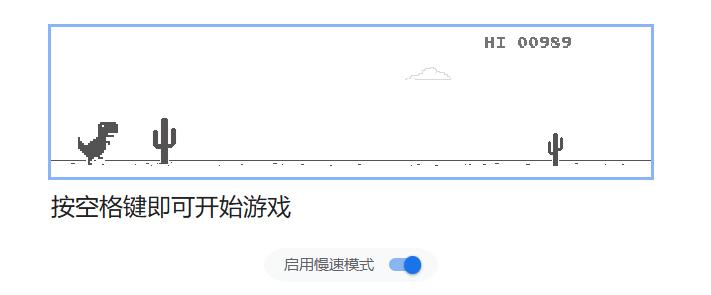cactus: (151, 117, 177, 166), (546, 131, 565, 167)
dino: (76, 120, 119, 165)
